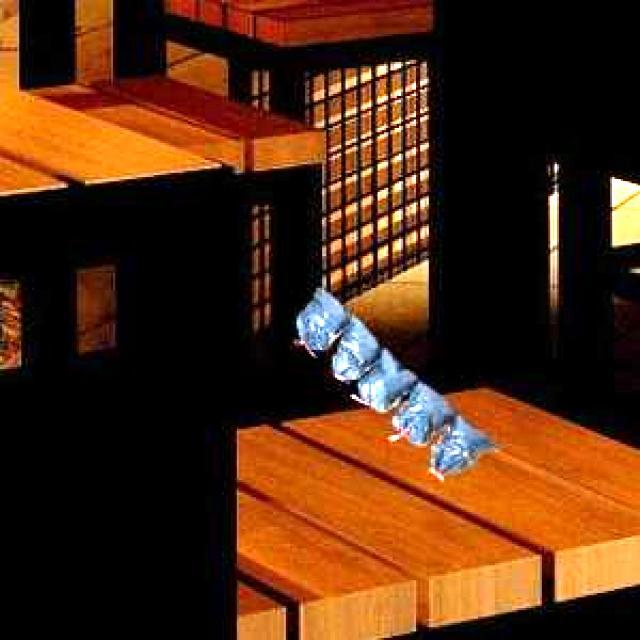Garbage_Bag: (293, 284, 496, 470)
